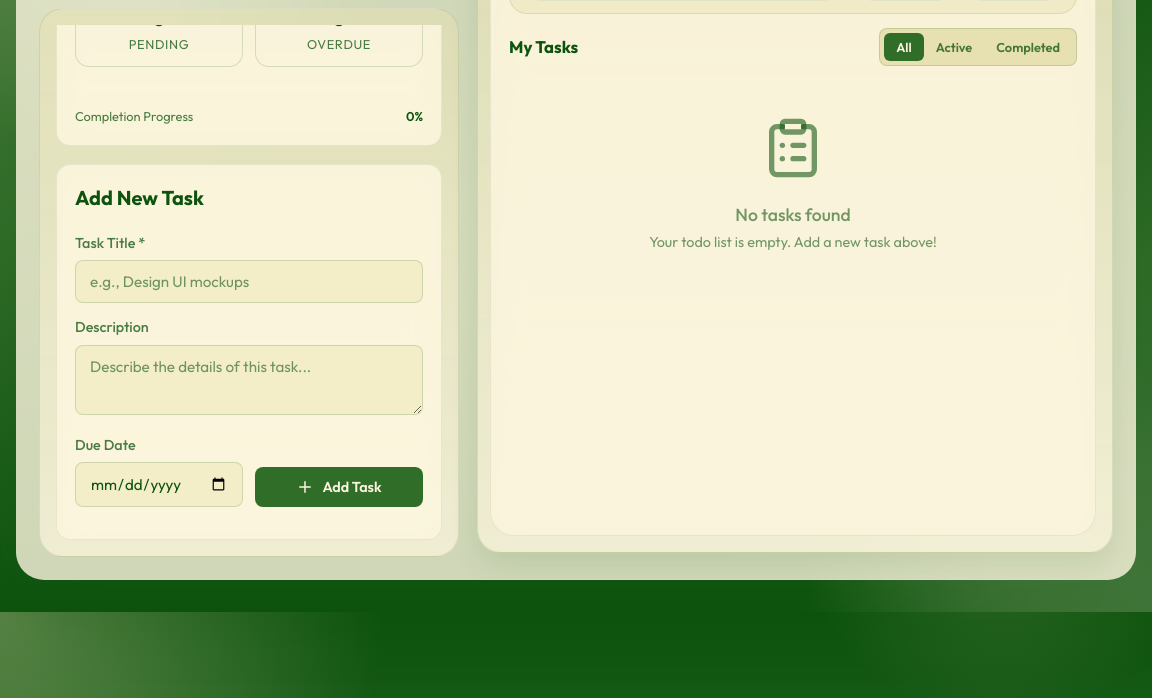
Test: MERN Todo App Integration Tests › validates form fields and displays error on empty submit
(page scrolled)
Step 1. Click the button "Add Task" → (339, 487), box x1=255 y1=467 x2=423 y2=507
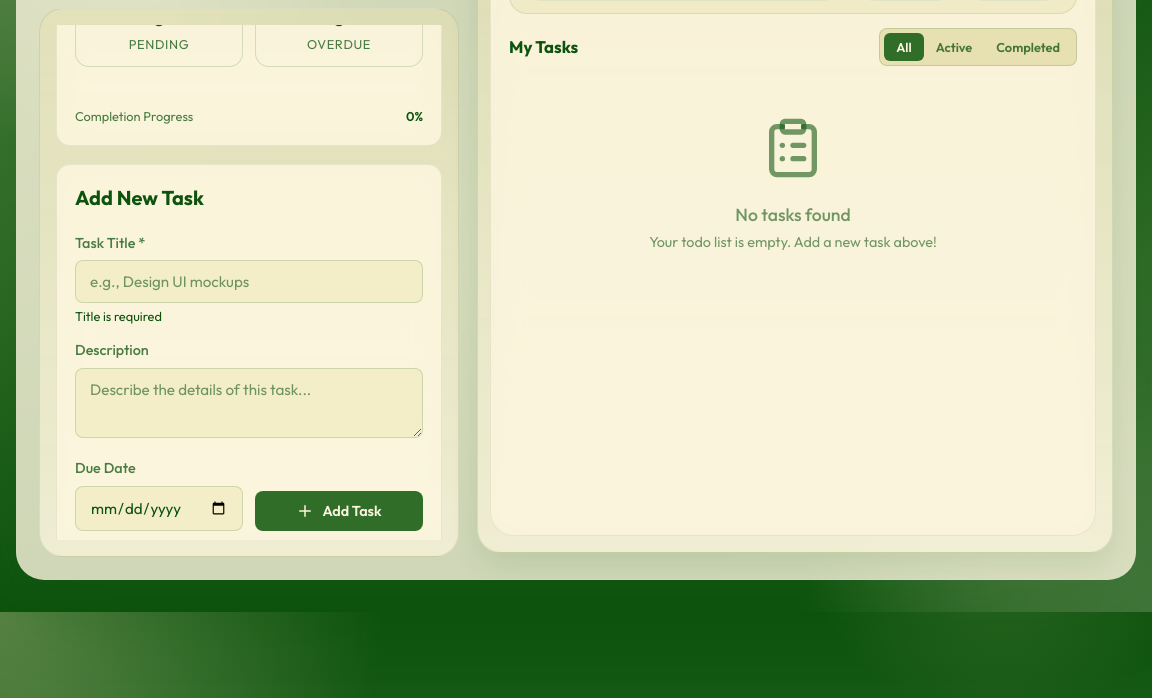
Now the text "Title is required" is shown, box x1=75 y1=308 x2=162 y2=324
